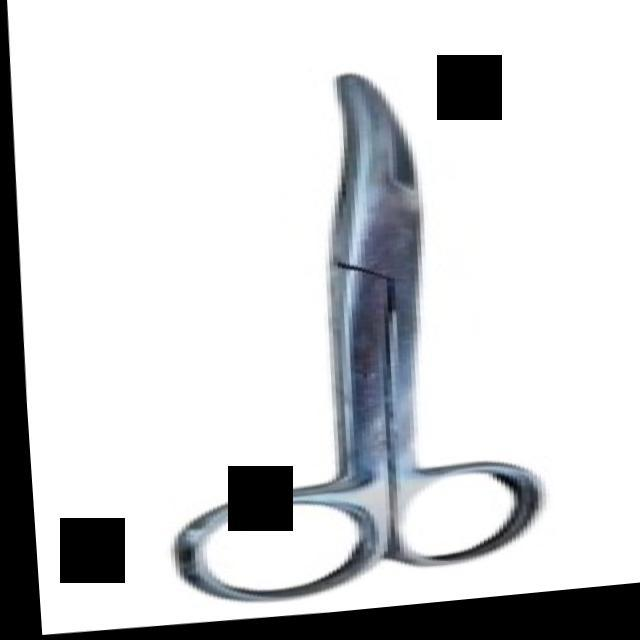Curved Mayo: (130, 57, 565, 623)
